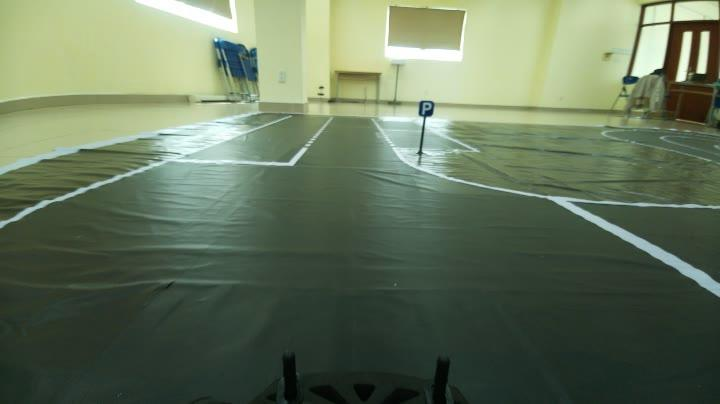parking: (408, 93, 440, 118)
